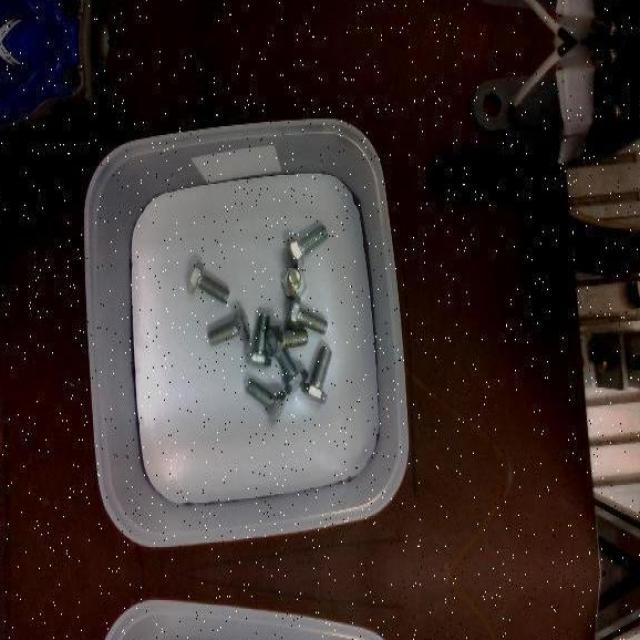screw: (187, 259, 232, 303), (287, 225, 329, 271), (244, 378, 286, 424), (302, 346, 334, 403), (208, 306, 252, 346), (287, 296, 329, 336), (266, 326, 309, 358)
